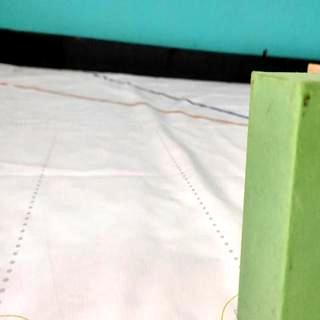greenbox: (237, 70, 320, 320)
